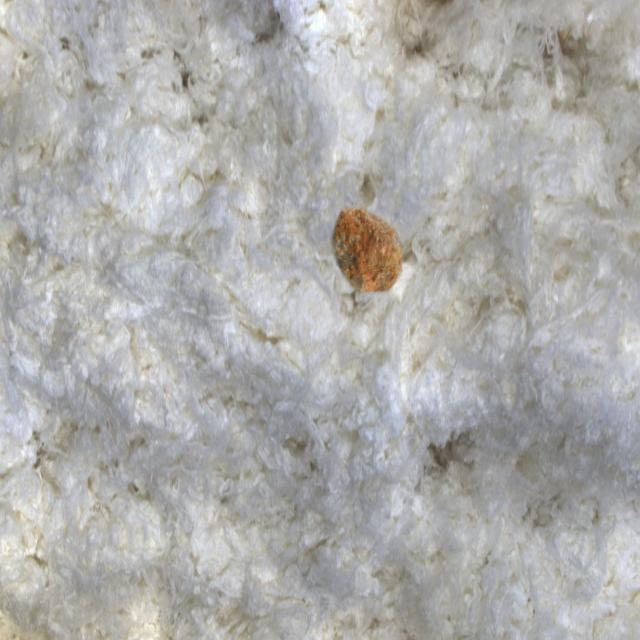dust: (301, 168, 446, 336)
